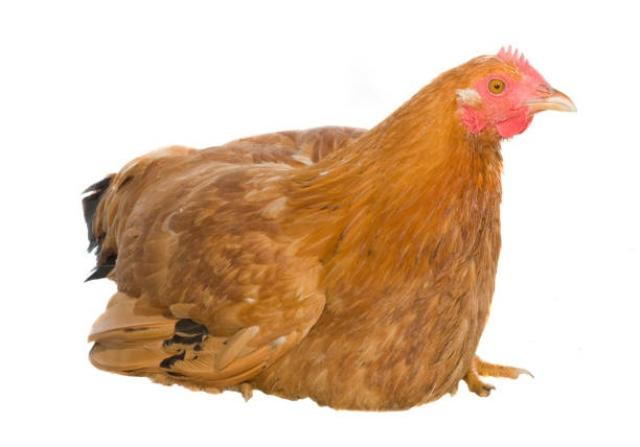Chicken: (82, 43, 577, 412)
